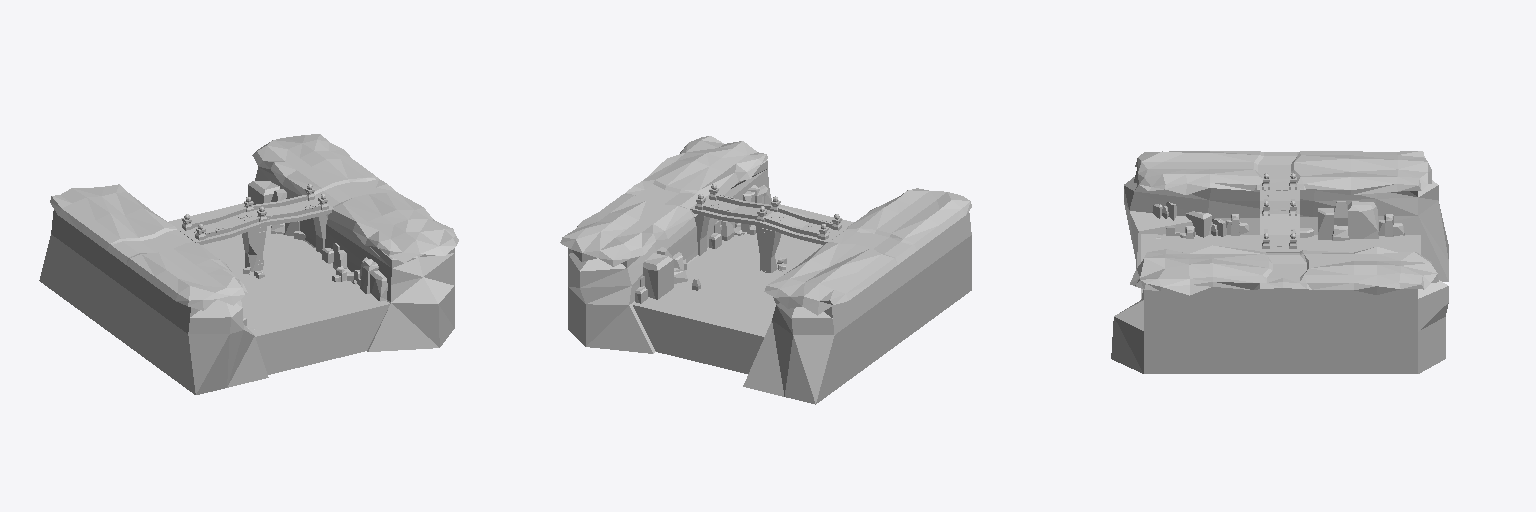
File: Rock Bridge and Environment .obj
3 views of the same model, side by side, from view 1: azimuth 30°, elevation 25°; view 2: azimuth 150°, elevation 25°; view 3: azimuth 270°, elevation 25° (orthographic).
Parts seen in each view (by area): view 1: Environment, Rock_Bridge; view 2: Environment, Rock_Bridge; view 3: Environment, Rock_Bridge.
Part boxes in pixels (left/top/right/bottom): Environment: left=39, top=134, right=458, bottom=394; Rock_Bridge: left=177, top=184, right=333, bottom=271; Environment: left=560, top=136, right=971, bottom=404; Rock_Bridge: left=690, top=184, right=847, bottom=272; Environment: left=1111, top=151, right=1448, bottom=373; Rock_Bridge: left=1260, top=173, right=1299, bottom=252.
Size of the model in its own units: 2408 by 901 by 2525.